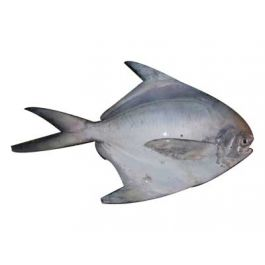Pomfret: (9, 58, 255, 208)
